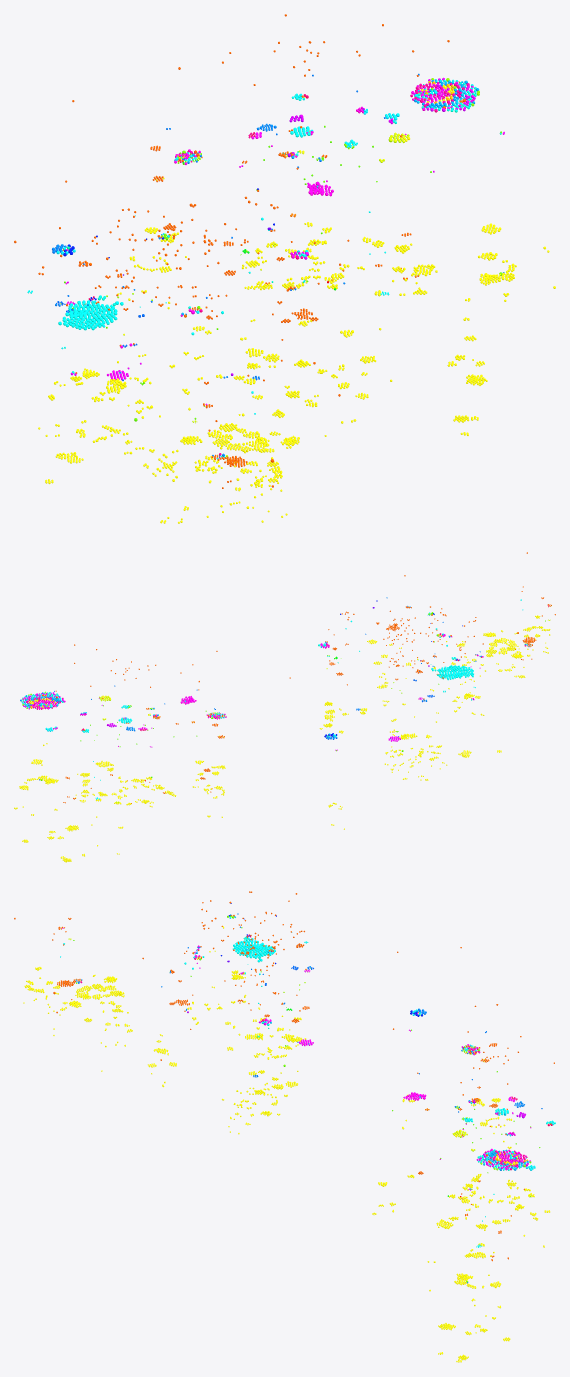
The model's file is task-7ecba22b2-layout.gltf.
The picture shows the model from 3 angles, top to bottom: view 1: azimuth 30°, elevation 25°; view 2: azimuth 150°, elevation 25°; view 3: azimuth 270°, elevation 25°; orthographic projection. The views are drawn at different scales.
Parts seen in each view (by area): view 1: normal_java_files, normal_xml_files, normal_no_ext_files; view 2: normal_java_files, normal_xml_files, normal_no_ext_files; view 3: normal_java_files, normal_xml_files, normal_no_ext_files.
Boxes of the visible parts, x1=… form: normal_java_files: x1=38, y1=97, x2=555, y2=523; normal_xml_files: x1=14, y1=14, x2=465, y2=488; normal_no_ext_files: x1=27, y1=84, x2=424, y2=459; normal_java_files: x1=14, y1=615, x2=550, y2=862; normal_xml_files: x1=42, y1=552, x2=555, y2=803; normal_no_ext_files: x1=35, y1=599, x2=530, y2=799; normal_java_files: x1=23, y1=926, x2=550, y2=1362; normal_xml_files: x1=14, y1=891, x2=554, y2=1261; normal_no_ext_files: x1=63, y1=917, x2=555, y2=1247.
Size of the model in its own units: 751 by 461 by 787.
